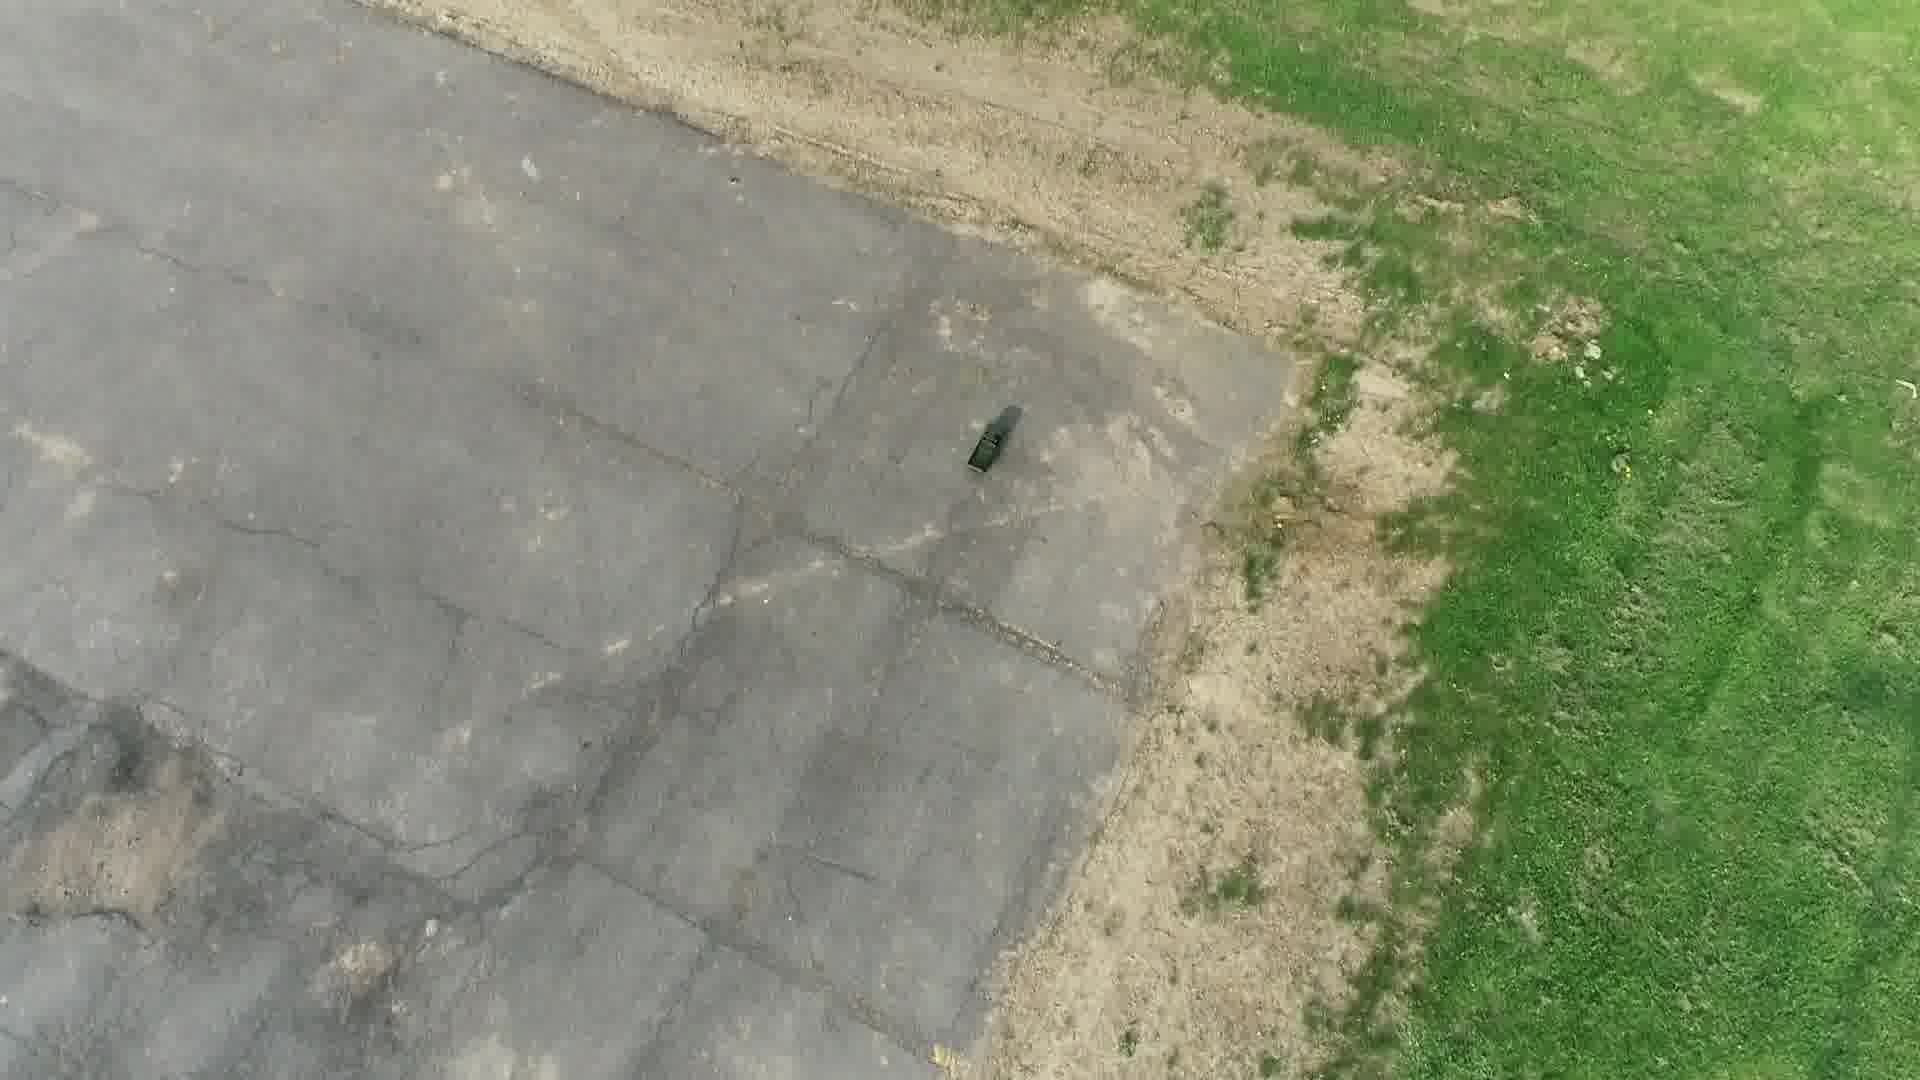transporter9: (963, 426, 1007, 477)
